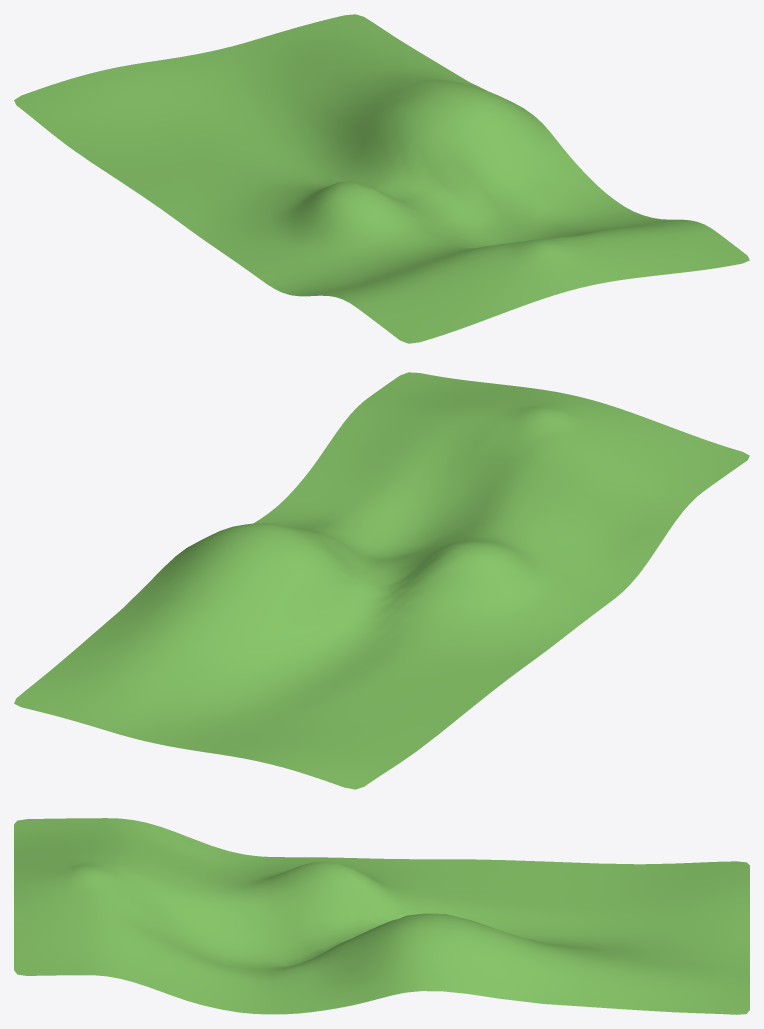
File: ground.fbx
3 views of the same model, one above another, from view 1: azimuth 30°, elevation 25°; view 2: azimuth 150°, elevation 25°; view 3: azimuth 270°, elevation 25° (orthographic). The views are drawn at different scales.
Parts seen in each view (by area): view 1: ground; view 2: ground; view 3: ground.
Boxes of the visible parts, bbox=[...] form: ground: bbox=[14, 14, 749, 343]; ground: bbox=[14, 372, 749, 789]; ground: bbox=[14, 818, 749, 1014].
Size of the model in its own units: 11444 by 2490 by 22681.
1 material, 1 textured.
